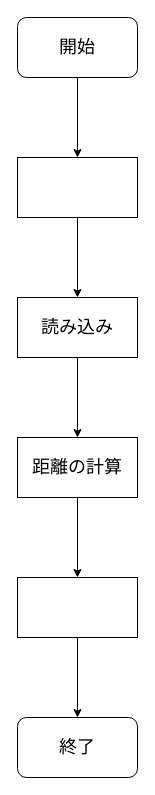
Some shapes in this 155 by 795 pixel diagram are drawn without their labels. The centre of each missing label's shape, as x and y in pixels:
"出力" belongs at (x=77, y=607).
"初期化" belongs at (x=77, y=187).
